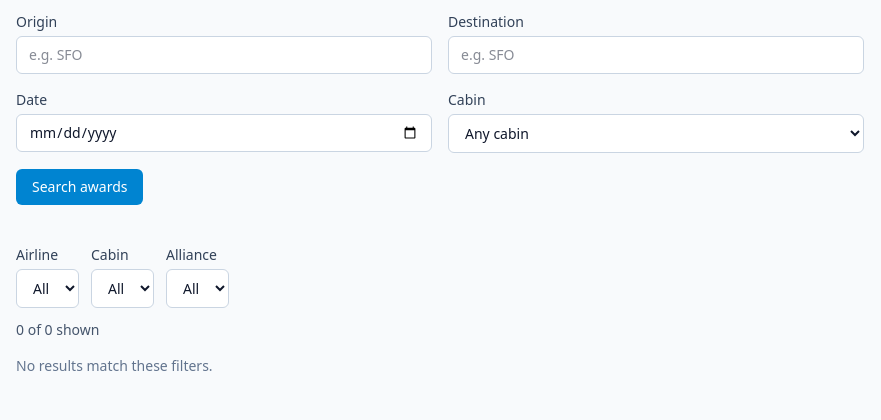
Scenario: HomePage › renders the empty state after a search with no results
This screenshot has width=881, height=420.
Type "SFO" into the field labelled "Origin" at coordinates (224, 55), box [16,36,432,74]
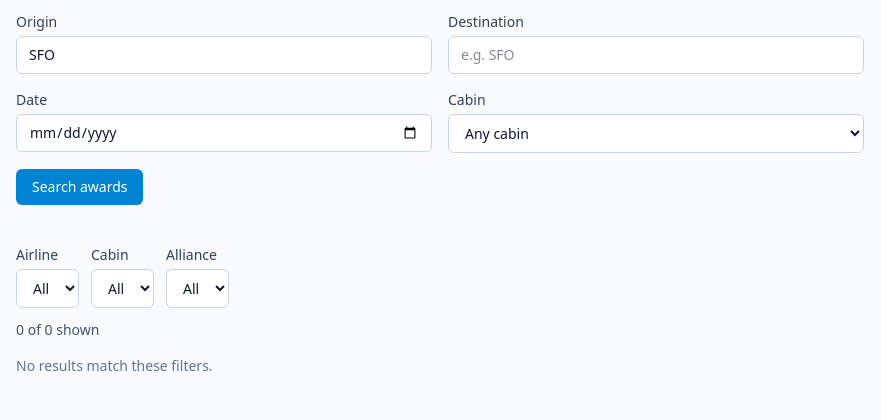
Type "JFK" into the field labelled "Destination" at coordinates (656, 55), box [448,36,864,74]
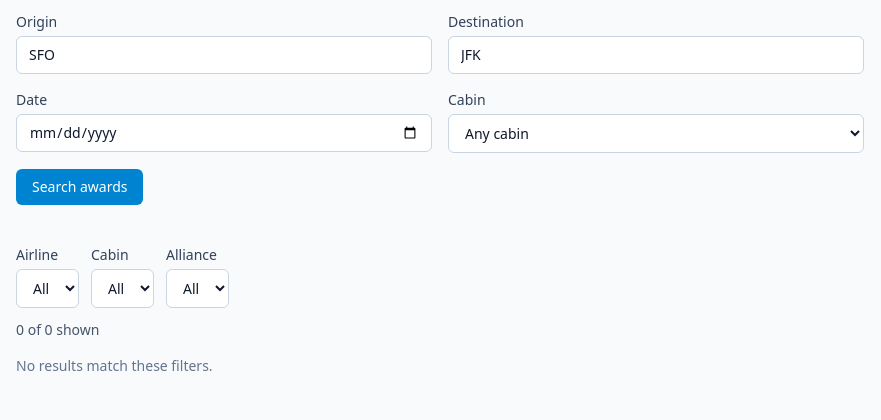
Type "2099-12-20" into the date field labelled "Date" at coordinates (224, 133), box [16,114,432,152]
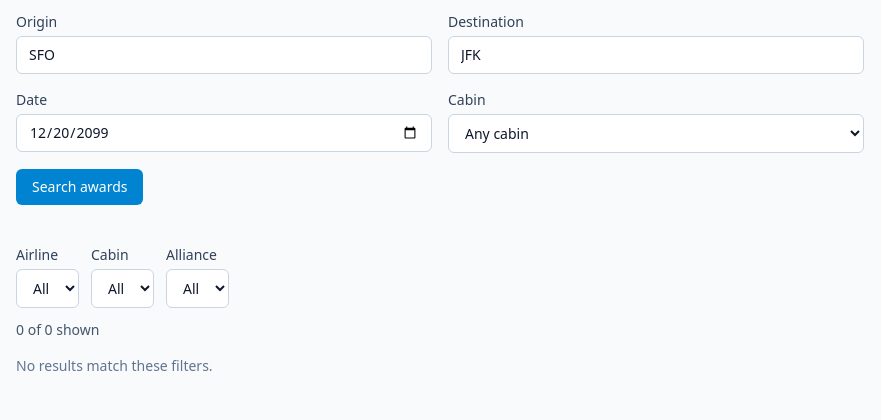
Click the button "Search awards" at coordinates (80, 187), box [16,169,144,205]
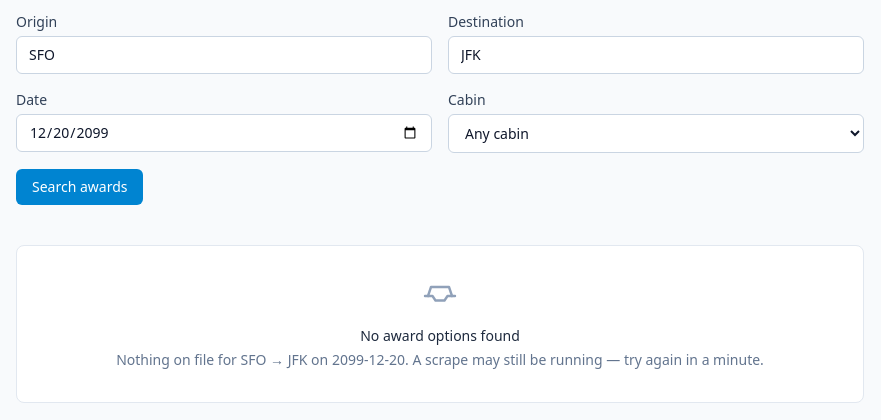
Now the text "No award options found" is shown, box [360,326,520,345]
